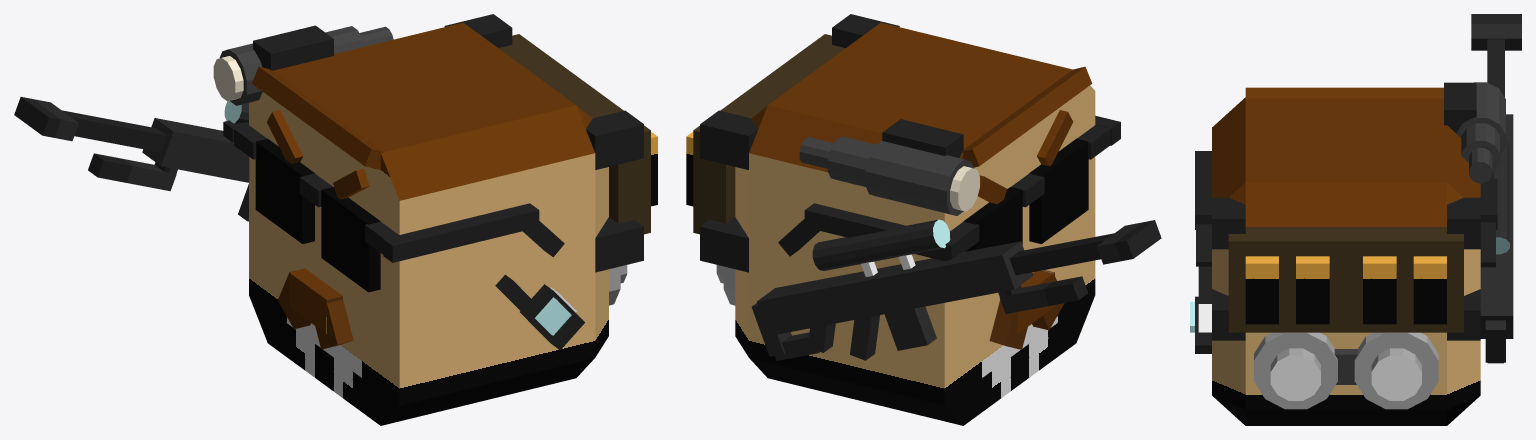
The model's file is playerShootingsniper.gltf.
The picture shows the model from 3 angles, left to right: view 1: azimuth 30°, elevation 25°; view 2: azimuth 150°, elevation 25°; view 3: azimuth 270°, elevation 25°; orthographic projection. The views are drawn at different scales.
Parts seen in each view (by area): view 1: beveled_cuboid, cylinder; view 2: beveled_cuboid, cylinder; view 3: beveled_cuboid, cylinder.
Part boxes in pixels (left/top/right/bottom): beveled_cuboid: left=213, top=14, right=657, bottom=425; cylinder: left=14, top=97, right=249, bottom=221; beveled_cuboid: left=686, top=14, right=1120, bottom=425; cylinder: left=751, top=219, right=1161, bottom=360; beveled_cuboid: left=1190, top=82, right=1505, bottom=425; cylinder: left=1471, top=14, right=1521, bottom=363.
Size of the model in its own units: 1.87 by 1.06 by 1.23.
Materials: 5 (5 with a texture image).
